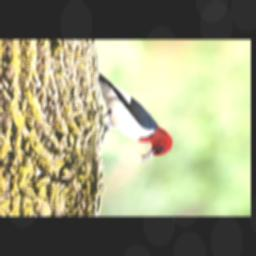Woodpecker: (98, 74, 174, 162)
